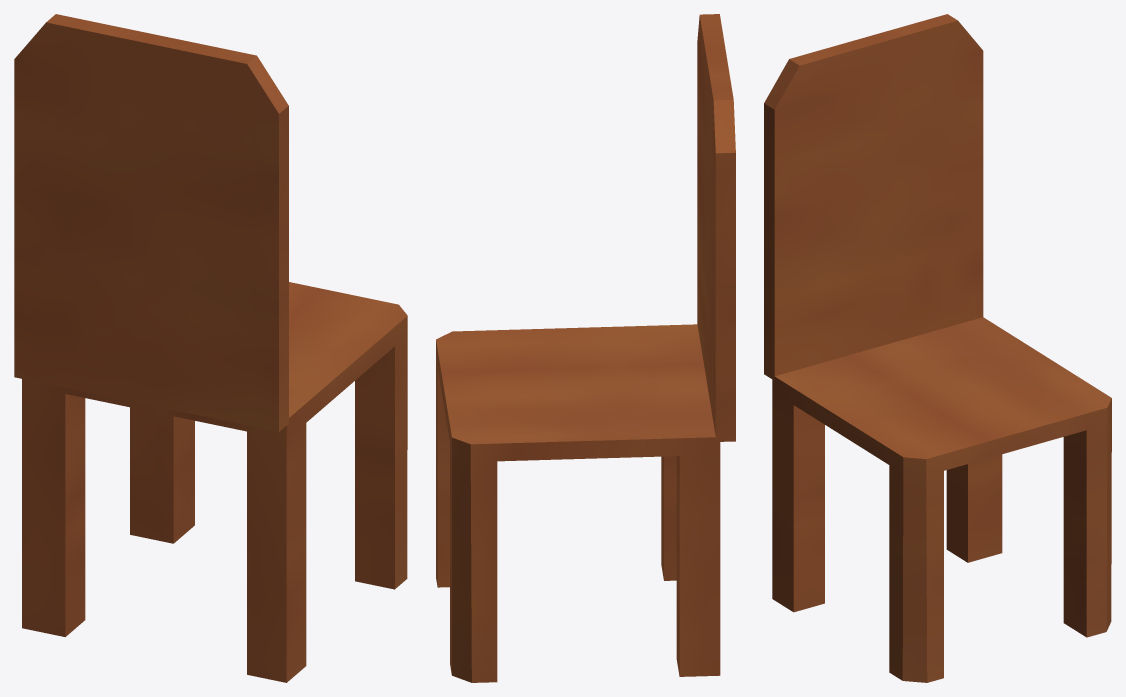
The model's file is silla escritorio.fbx.
3 views of the same model, side by side, from view 1: azimuth 30°, elevation 25°; view 2: azimuth 150°, elevation 25°; view 3: azimuth 270°, elevation 25° (orthographic). The views are drawn at different scales.
Visible parts, largest first — view 1: Silla; view 2: Silla; view 3: Silla.
Boxes of the visible parts, <box> form: Silla: <box>14,14,407,682</box>; Silla: <box>436,14,735,682</box>; Silla: <box>764,14,1111,682</box>.
Size of the model in its own units: 67.85 by 112 by 67.08.
